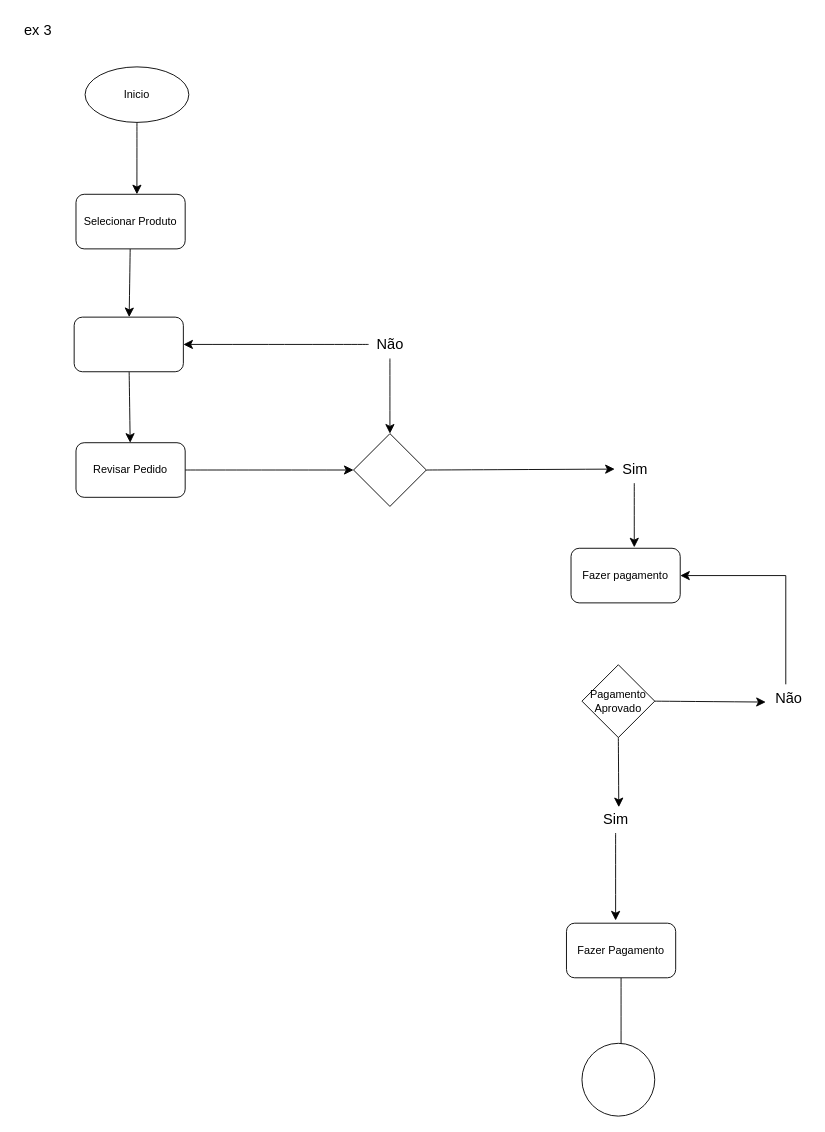
Image size: 825x1132. Some labels were removed from this diagram. The centre of each missing label's shape, as x and y in pixels:
Adicionar ao Carrinho: (x=128, y=344)
Fim: (x=618, y=1079)
Pedido Correto?: (x=389, y=469)
